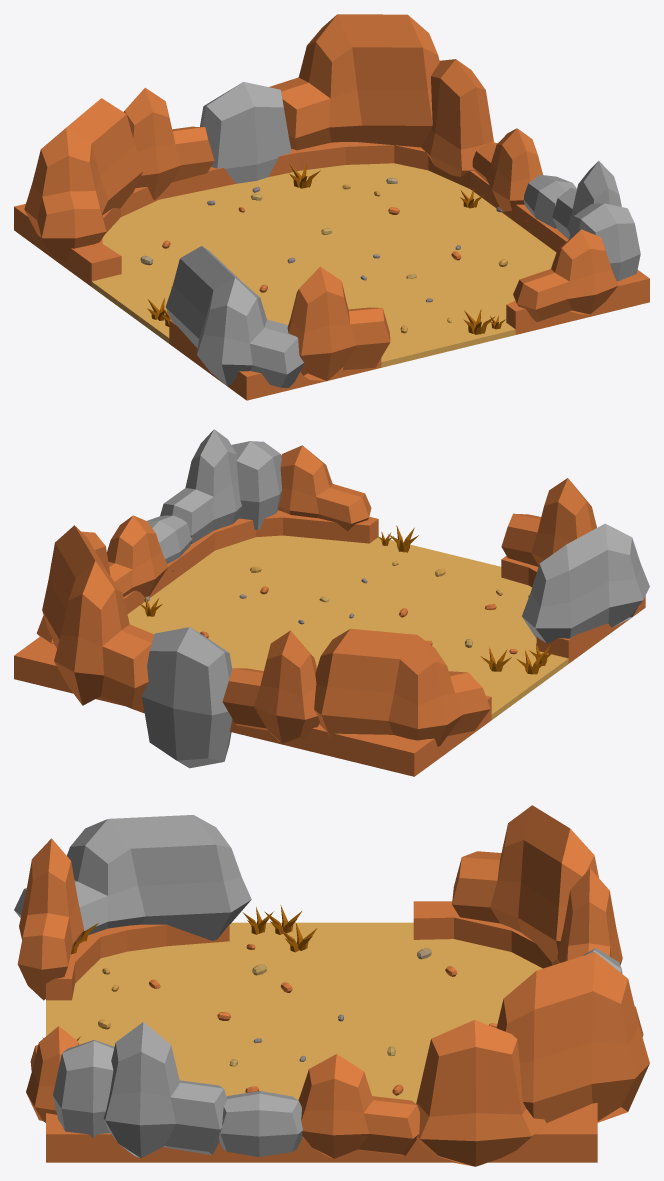
The model's file is cave level set - 2 Way (1).fbx.
3 views of the same model, one above another, from view 1: azimuth 30°, elevation 25°; view 2: azimuth 150°, elevation 25°; view 3: azimuth 270°, elevation 25° (orthographic). The views are drawn at different scales.
Visible parts, largest first — view 1: land_platform_001, Cube_001, Cube_004, Cube_003, Cube_002, Cube_007, Cube_006, Cube_005, Cube_010, Cube_012, Cube_008, Cube_009 (+1 smaller); view 2: land_platform_001, Cube_004, Cube_001, Cube_007, Cube_003, Cube_010, Cube_009, Cube_002, Cube_005, Cube_012, Cube_008, Cube_013 (+1 smaller); view 3: land_platform_001, Cube_001, Cube_003, Cube_006, Cube_004, Cube_009, Cube_012, Cube_002, Cube_013, Cube_008, Cube_010, Cube_005.
Boxes of the visible parts, x1,y1,x2,y2 form: land_platform_001: (14,142,649,400); Cube_001: (269,14,439,150); Cube_004: (24,98,143,262); Cube_003: (165,246,303,387); Cube_002: (287,266,390,381); Cube_007: (200,82,291,183); Cube_006: (420,59,494,176); Cube_005: (513,229,618,321); Cube_010: (124,87,214,199); Cube_012: (472,128,542,211); Cube_008: (569,203,640,281); Cube_009: (552,161,621,239); land_platform_001: (14,510,645,776); Cube_004: (314,628,490,746); Cube_001: (42,525,154,713); Cube_007: (142,627,232,768); Cube_003: (522,523,649,643); Cube_010: (222,630,319,743); Cube_009: (160,429,241,543); Cube_002: (501,478,596,566); Cube_005: (278,445,371,531); Cube_012: (107,515,167,597); Cube_008: (231,441,281,529); Cube_013: (147,515,192,563); land_platform_001: (46,901,597,1162); Cube_001: (496,952,649,1123); Cube_003: (14,815,251,940); Cube_006: (416,1020,546,1166); Cube_004: (452,805,598,962); Cube_009: (103,1022,227,1158); Cube_012: (298,1054,419,1158); Cube_002: (17,838,83,1000); Cube_013: (219,1091,302,1157); Cube_008: (53,1039,114,1138); Cube_010: (557,868,622,964); Cube_005: (26,1026,78,1122).
Size of the model in its own units: 16.76 by 6.94 by 17.49.
